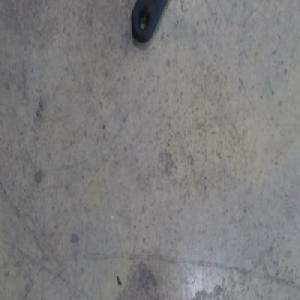AdjustableWrench: (131, 0, 167, 44)
